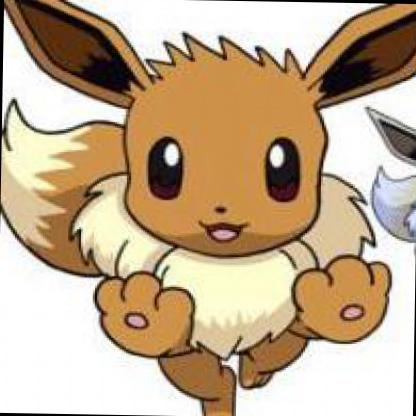Eevee: (5, 1, 416, 406)
